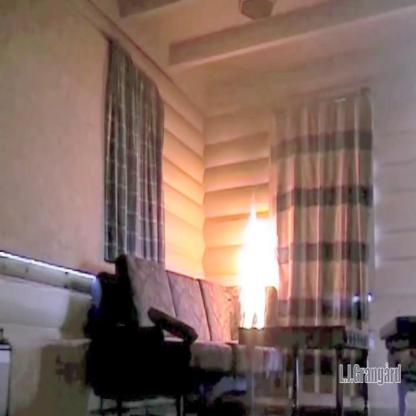fire: (237, 199, 282, 337)
